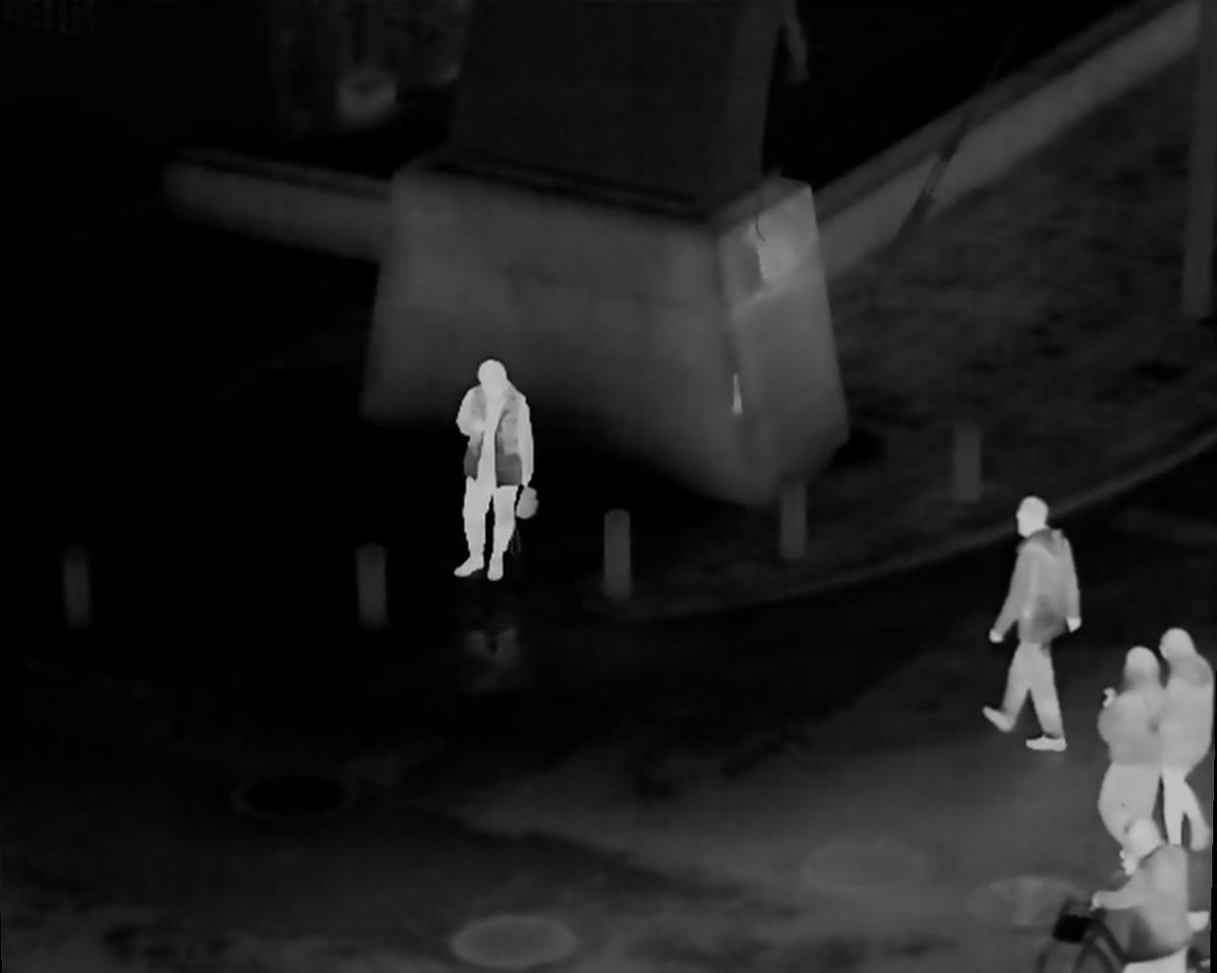person: (993, 495, 1070, 755), (455, 354, 540, 585), (1085, 646, 1169, 851), (1092, 816, 1186, 973), (1150, 619, 1210, 839)
